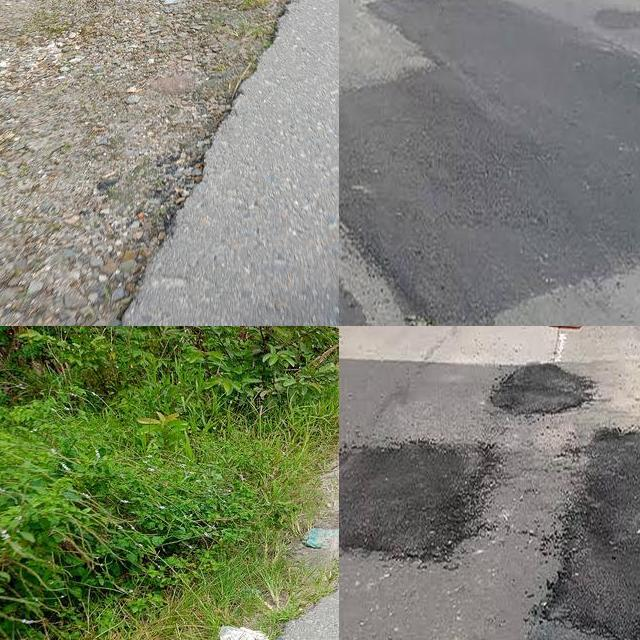Pinggir: (61, 0, 315, 326)
Sambungan: (339, 0, 640, 326), (545, 433, 640, 640), (339, 448, 489, 559), (488, 361, 598, 422)
